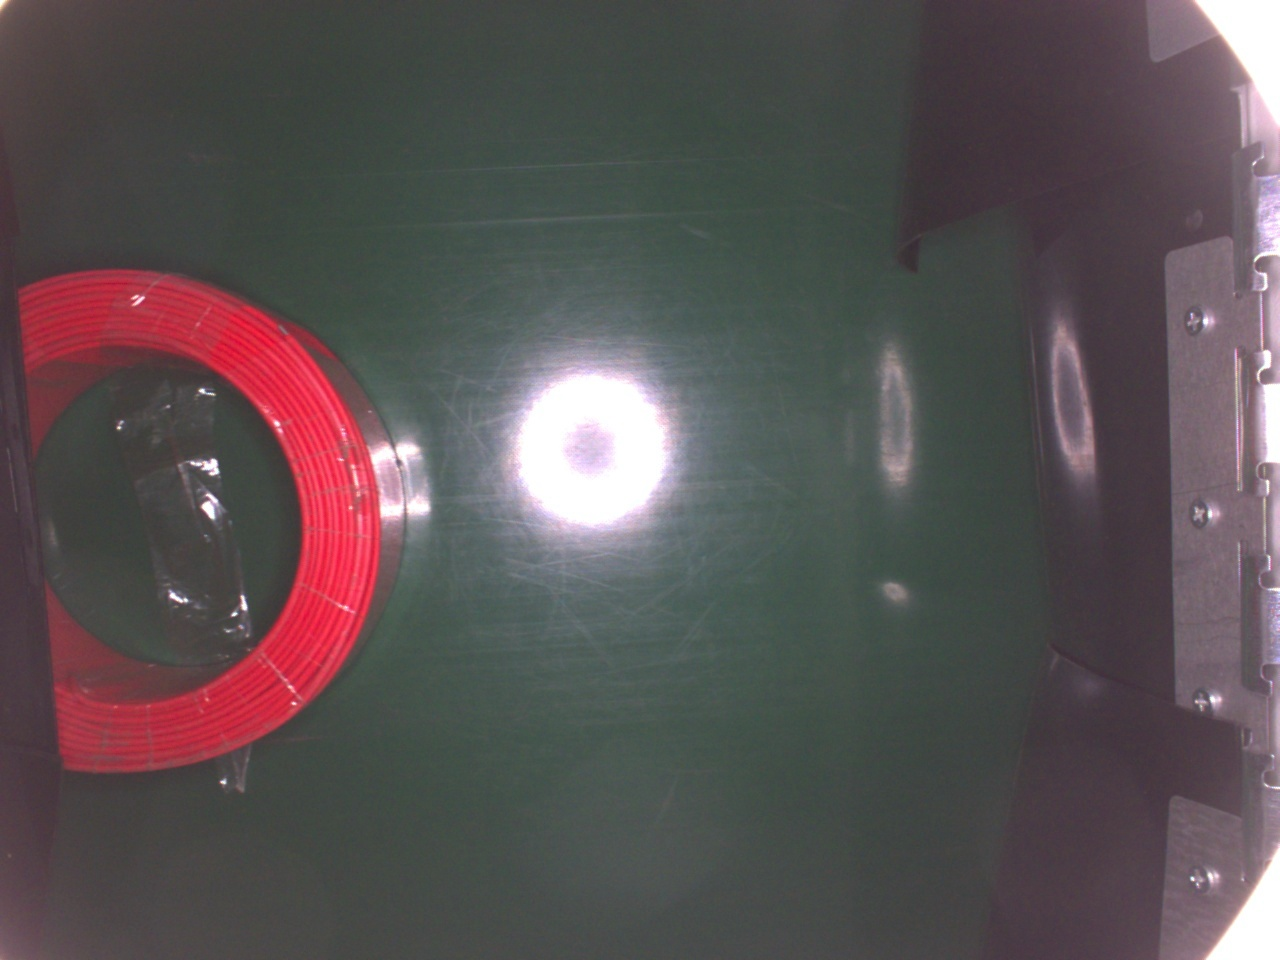red: (17, 263, 403, 774)
